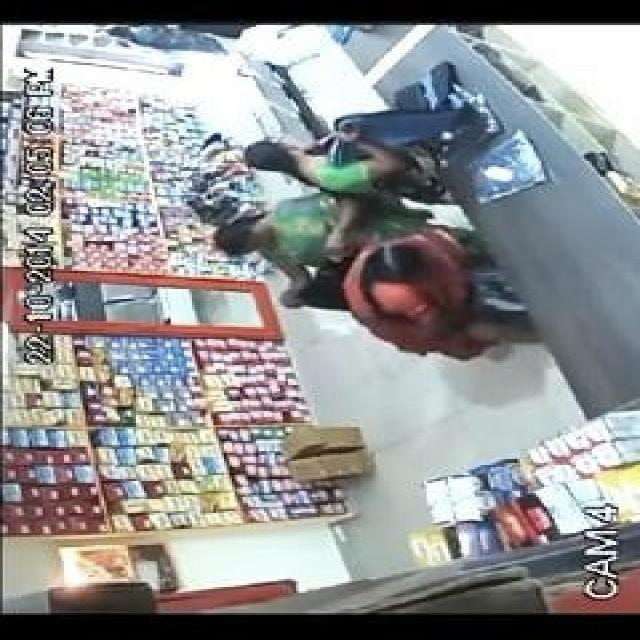Shoplifting: (332, 206, 568, 384)
